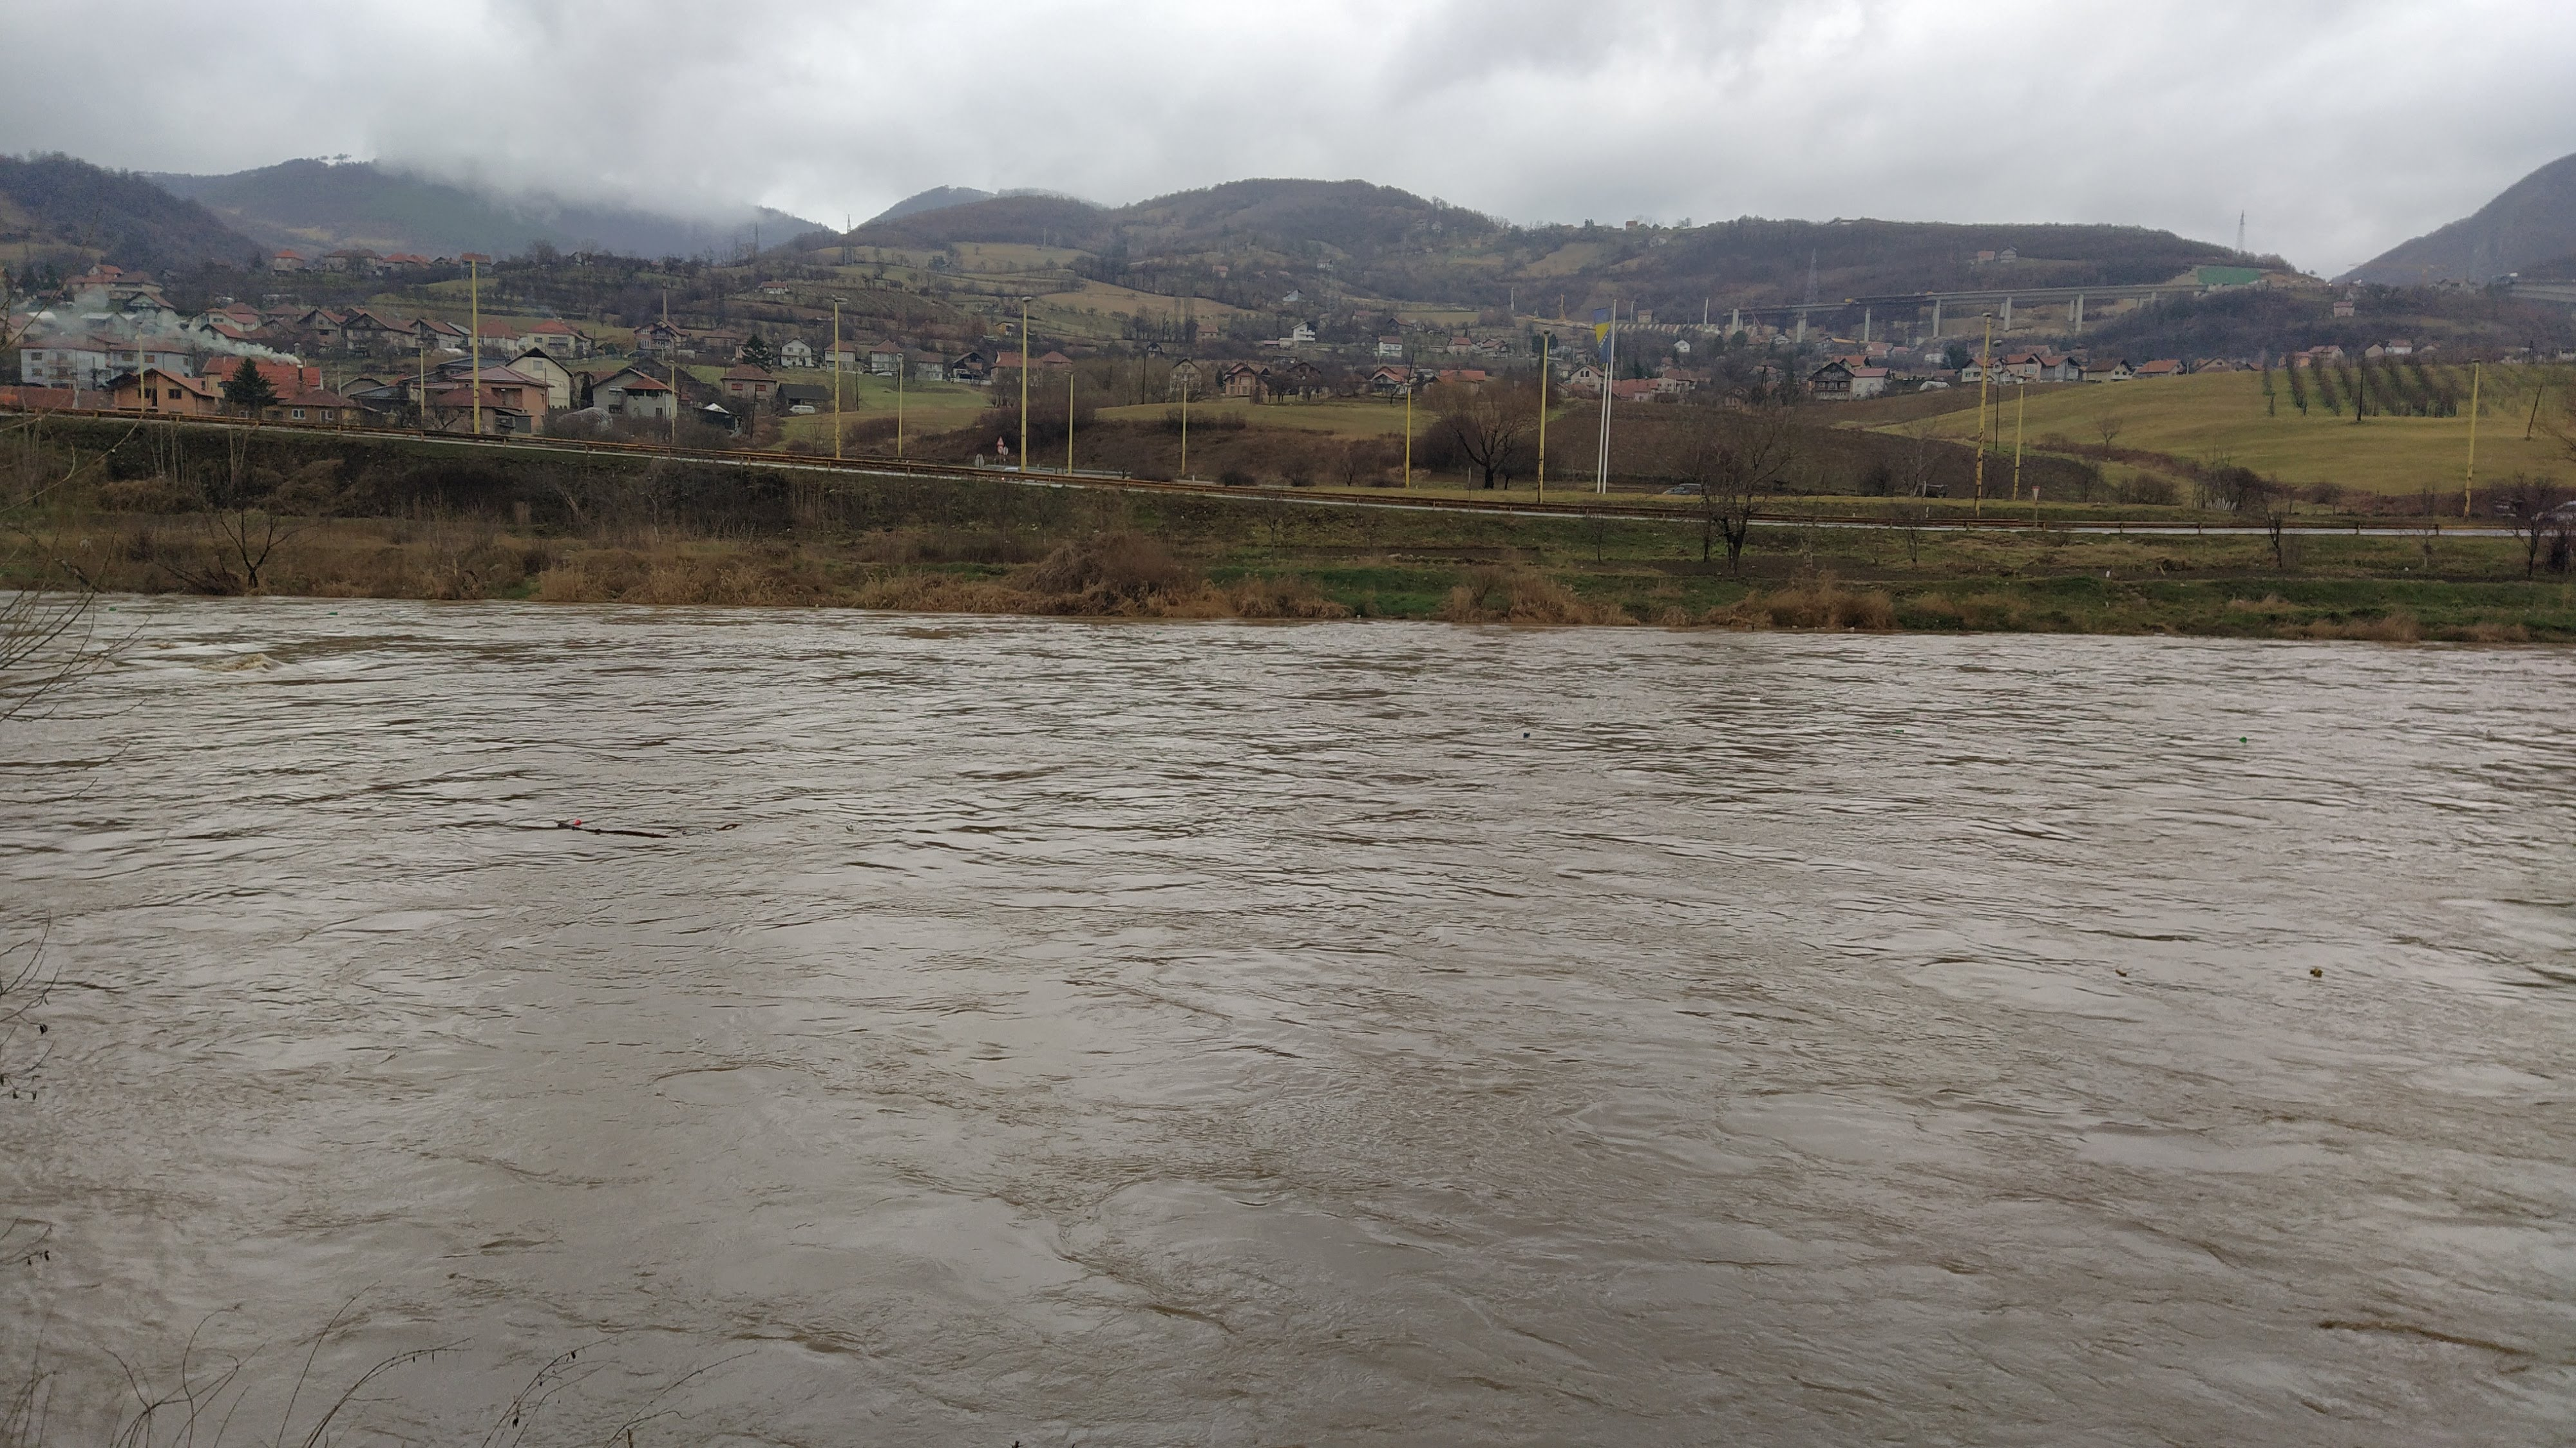Plastic Bottle: (2311, 968, 2321, 975), (2116, 968, 2127, 975), (1750, 696, 1760, 701), (847, 821, 853, 830), (327, 611, 338, 614), (573, 820, 580, 825), (1523, 731, 1530, 736), (2240, 736, 2247, 742), (2066, 673, 2075, 676), (110, 607, 115, 611), (1895, 729, 1905, 731), (2008, 749, 2012, 754)
